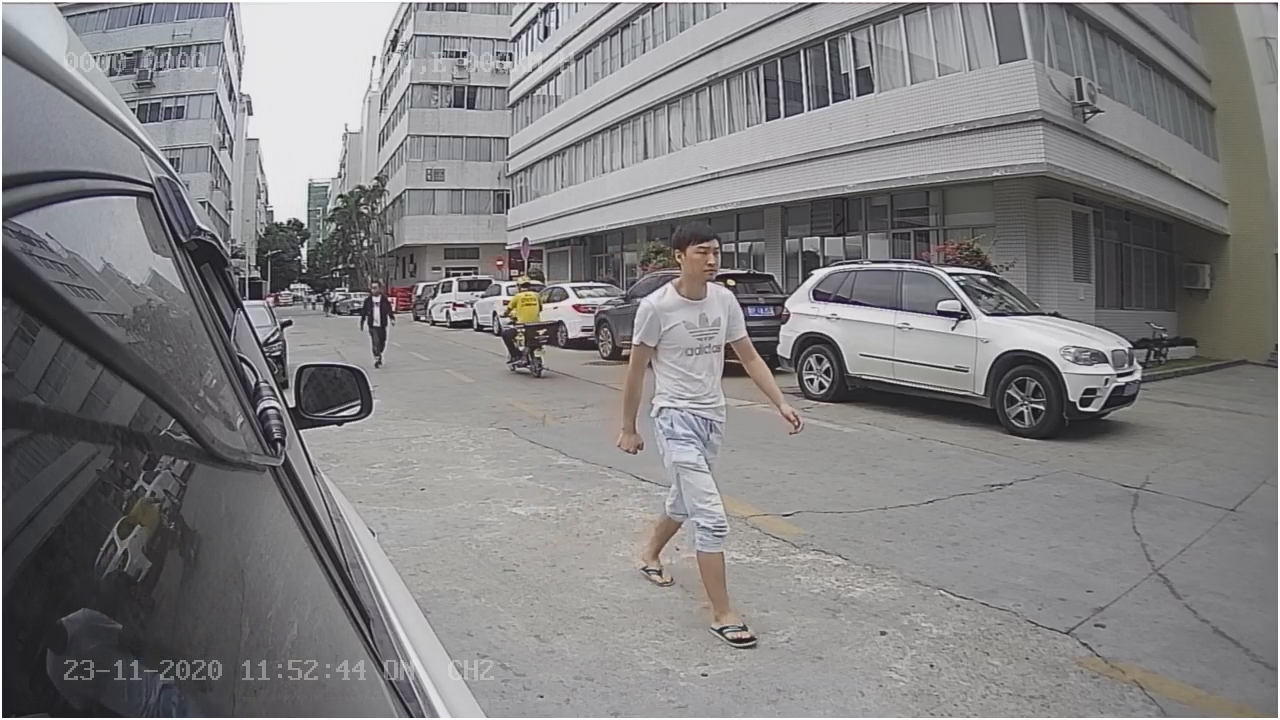person: (626, 230, 789, 646)
